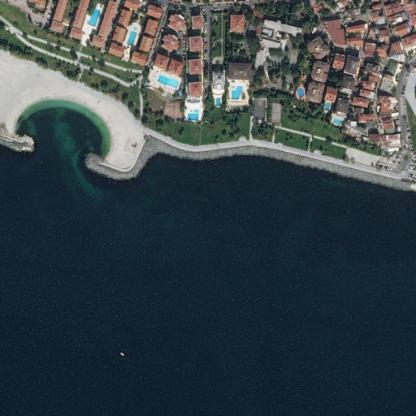ship: (113, 346, 130, 362)
